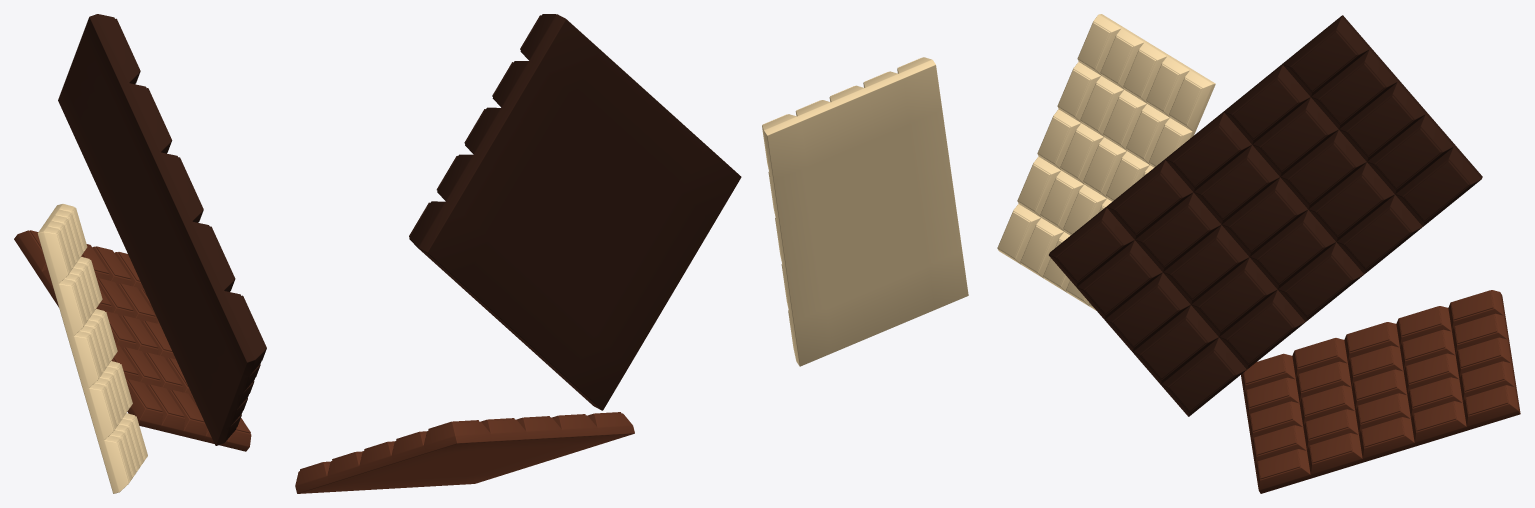
The model's file is chocolate-bars.glb.
The picture shows the model from 3 angles, left to right: view 1: azimuth 30°, elevation 25°; view 2: azimuth 150°, elevation 25°; view 3: azimuth 270°, elevation 25°; orthographic projection. The views are drawn at different scales.
Parts seen in each view (by area): view 1: Chololate Bar, Chololate Bar.002, Chololate Bar.001; view 2: Chololate Bar, Chololate Bar.002, Chololate Bar.001; view 3: Chololate Bar, Chololate Bar.001, Chololate Bar.002.
Boxes of the visible parts, left/top/right/bottom form: Chololate Bar: left=58, top=14, right=266, bottom=445; Chololate Bar.002: left=37, top=204, right=147, bottom=493; Chololate Bar.001: left=14, top=230, right=251, bottom=451; Chololate Bar: left=409, top=14, right=741, bottom=410; Chololate Bar.002: left=762, top=57, right=968, bottom=366; Chololate Bar.001: left=295, top=412, right=634, bottom=493; Chololate Bar: left=1049, top=15, right=1482, bottom=416; Chololate Bar.001: left=1241, top=290, right=1520, bottom=493; Chololate Bar.002: left=997, top=14, right=1215, bottom=310.
Bounding box in the file's own units: 3.34 × 4.54 × 5.06.
